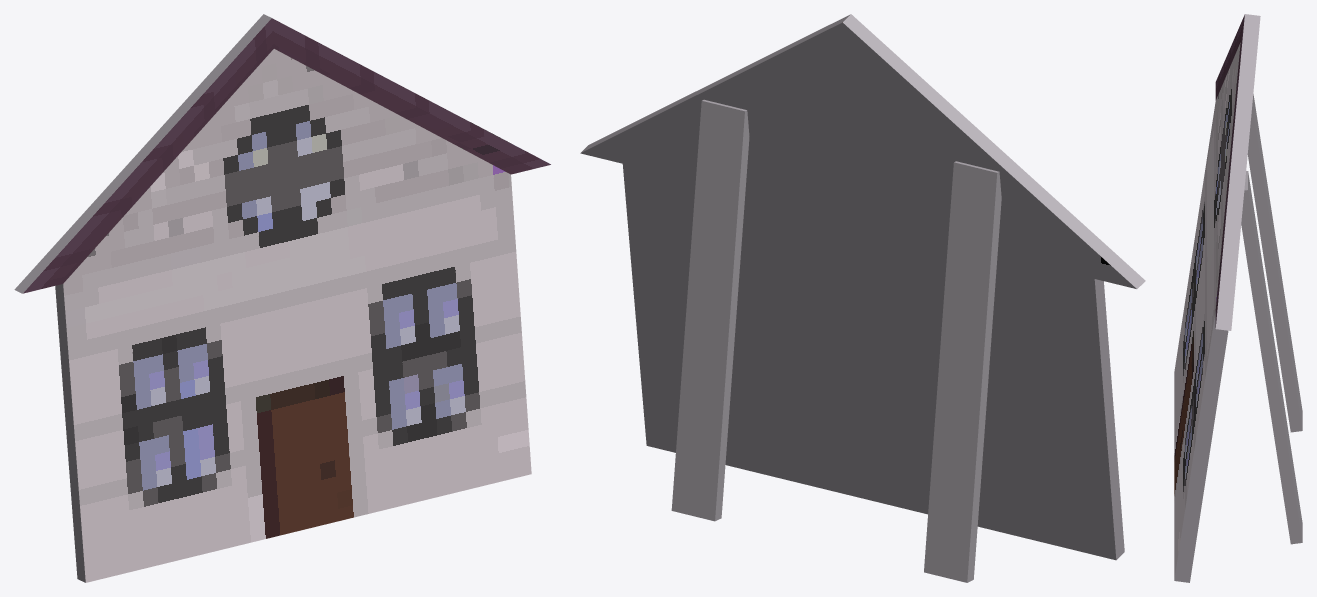
Rendered from FakeHome006.fbx.
The picture shows the model from 3 angles, left to right: view 1: azimuth 30°, elevation 25°; view 2: azimuth 150°, elevation 25°; view 3: azimuth 270°, elevation 25°; orthographic projection. The views are drawn at different scales.
Visible parts, largest first — view 1: Cube.012; view 2: Cube.012; view 3: Cube.012.
Boxes of the visible parts, left/top/right/bottom form: Cube.012: left=14, top=14, right=550, bottom=582; Cube.012: left=580, top=14, right=1145, bottom=582; Cube.012: left=1174, top=14, right=1302, bottom=582.
Size of the model in its own units: 616 by 540 by 135.
1 material, 1 textured.
